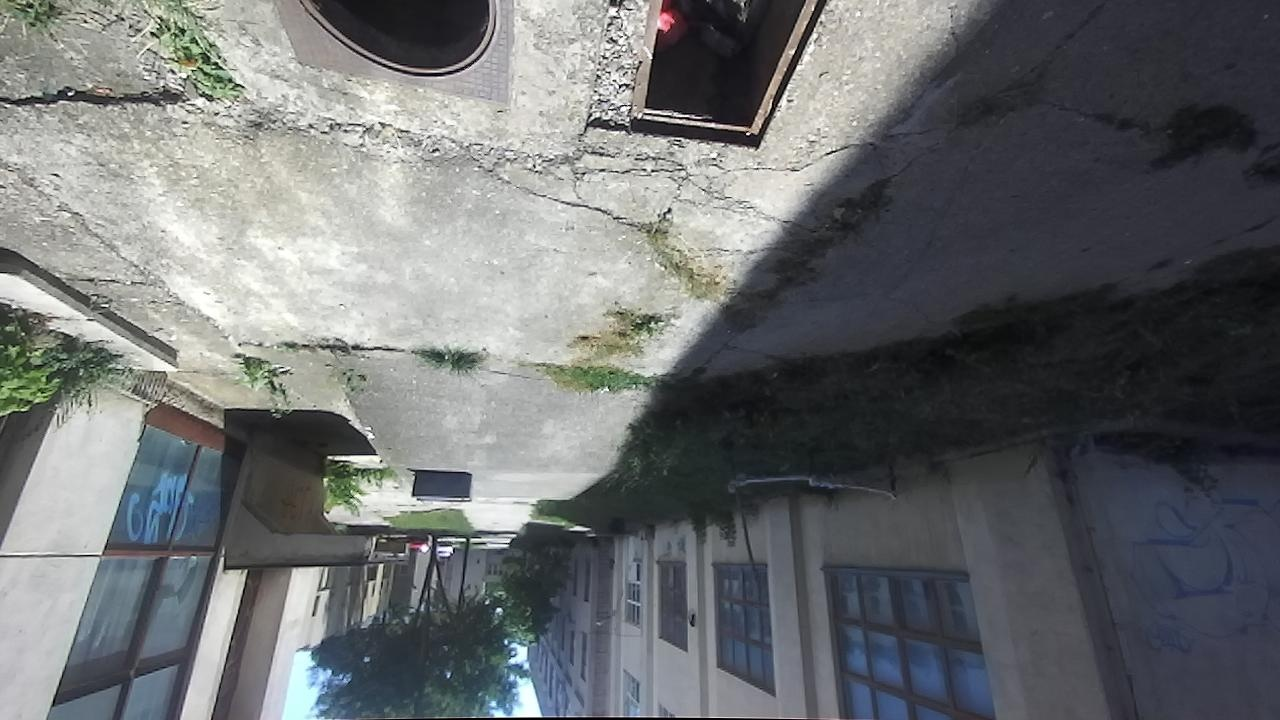drain: (588, 0, 842, 150), (296, 0, 495, 82)
